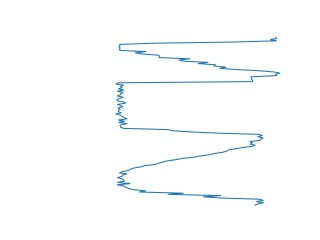distributaryChannelFill: (112, 73, 267, 142)
mouthBar: (116, 36, 284, 77)
underwaterDistributaryChannel: (113, 141, 269, 206)
